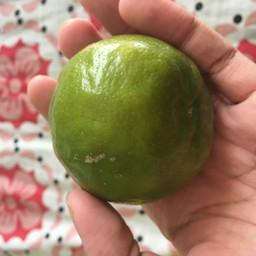Good_orange: (48, 23, 215, 201)
